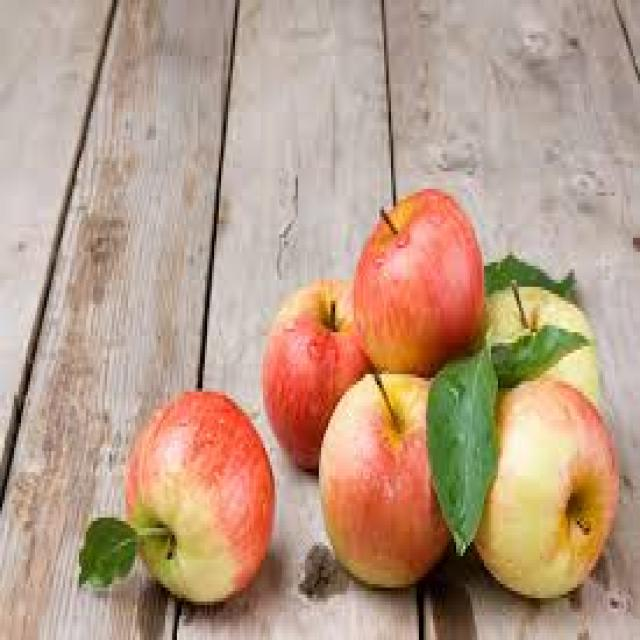apple: (115, 378, 284, 614)
